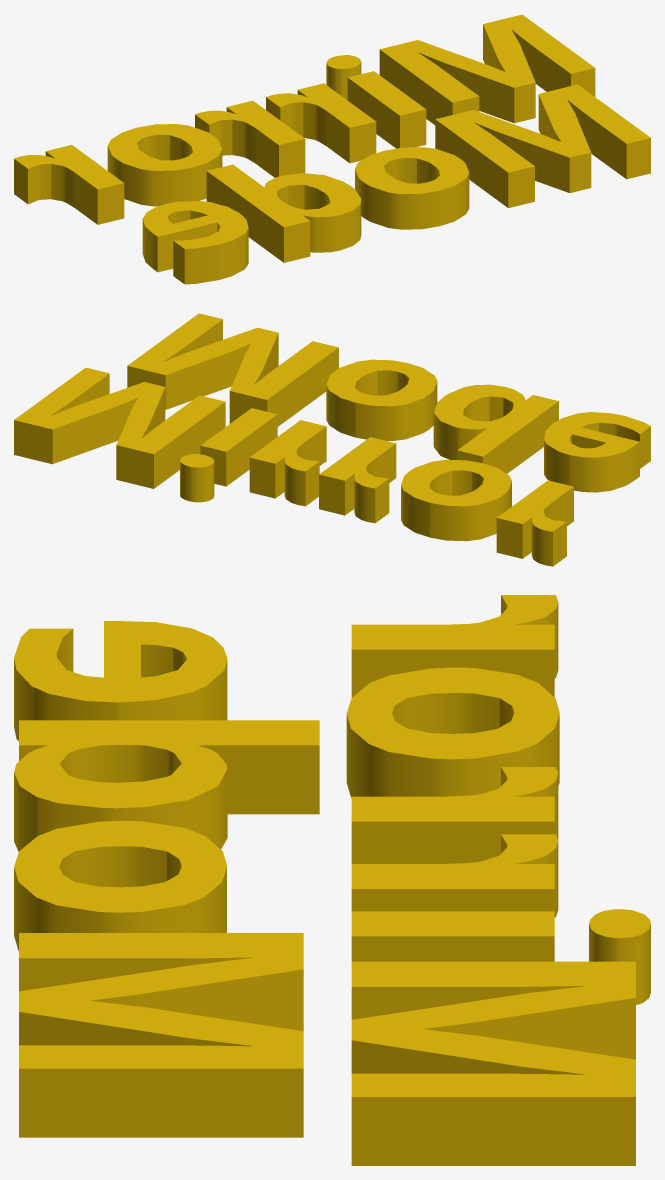
Rendered from MirrorMode.fbx.
The picture shows the model from 3 angles, top to bottom: view 1: azimuth 30°, elevation 25°; view 2: azimuth 150°, elevation 25°; view 3: azimuth 270°, elevation 25°; orthographic projection. The views are drawn at different scales.
Parts seen in each view (by area): view 1: Char_M_2_curve42; view 2: Char_M_2_curve42; view 3: Char_M_2_curve42.
Boxes of the visible parts, left/top/right/bottom form: Char_M_2_curve42: left=14, top=14, right=650, bottom=284; Char_M_2_curve42: left=14, top=313, right=650, bottom=566; Char_M_2_curve42: left=14, top=595, right=650, bottom=1165.
Bounding box in the file's own units: 87.34 × 5.61 × 46.85.
